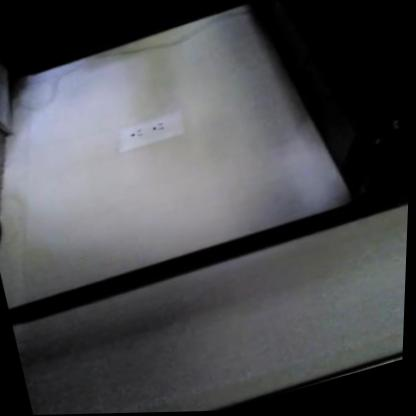OUTLET: (113, 108, 187, 151)
